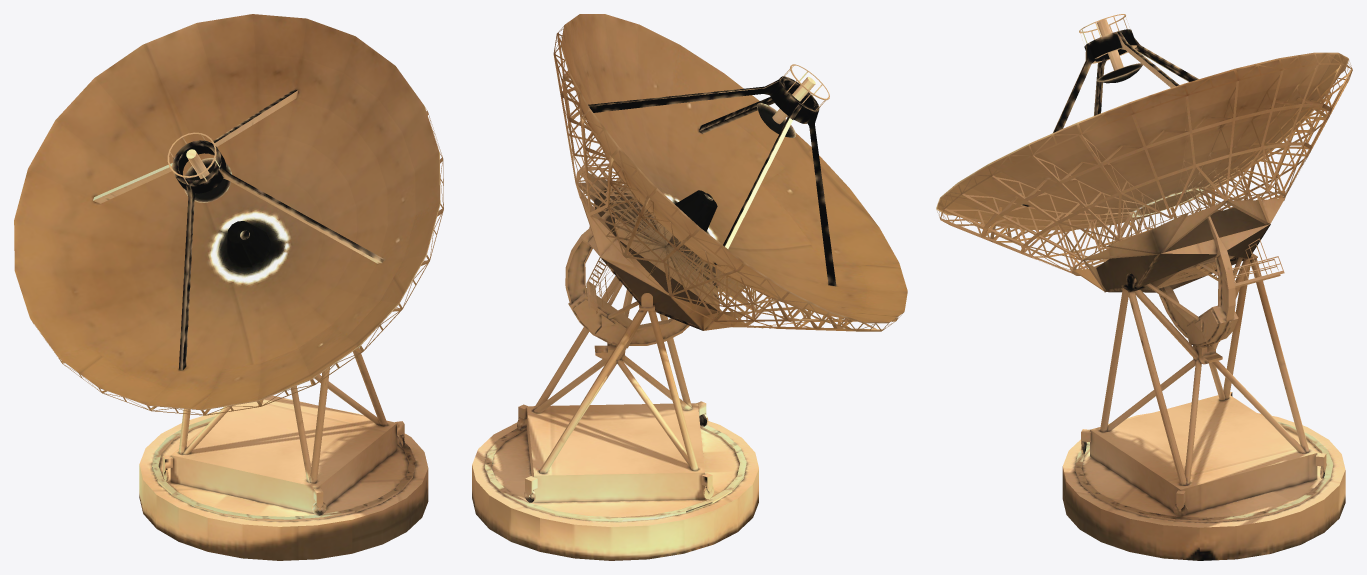
Rendered from base_station_antenna.glb.
The picture shows the model from 3 angles, left to right: view 1: azimuth 30°, elevation 25°; view 2: azimuth 150°, elevation 25°; view 3: azimuth 270°, elevation 25°; orthographic projection. The views are drawn at different scales.
Parts seen in each view (by area): view 1: Object_31; view 2: Object_31; view 3: Object_31.
Boxes of the visible parts, box(x1,y1,x2,y2) form: Object_31: box(14, 14, 443, 560); Object_31: box(472, 14, 907, 560); Object_31: box(936, 14, 1352, 560).
Bounding box in the file's own units: 4.61 × 5.38 × 4.5.
Materials: 1 (1 with a texture image).
